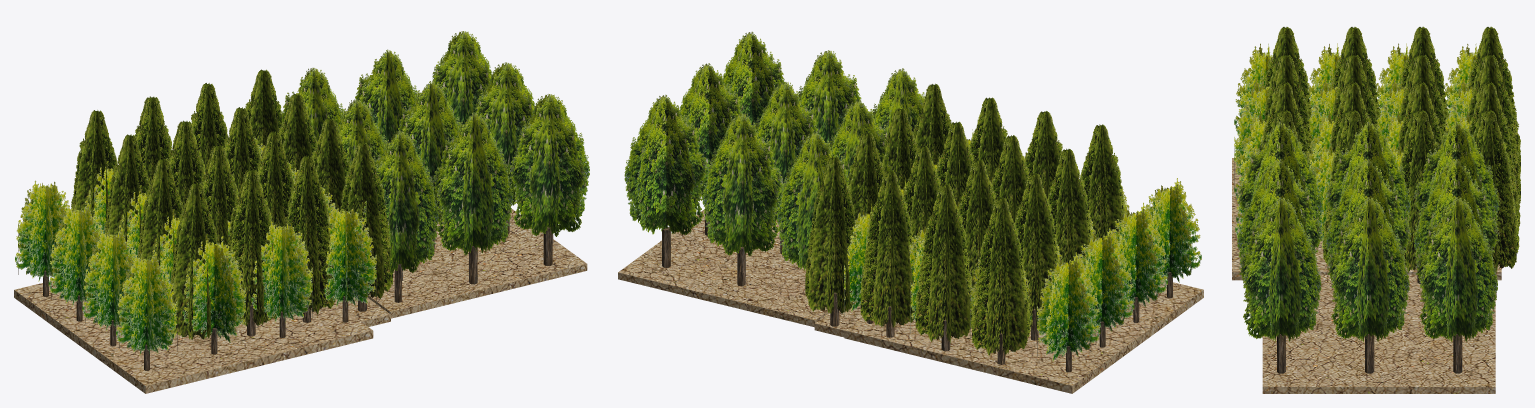
Rendered from Tree Pack.FBX.
3 views of the same model, side by side, from view 1: azimuth 30°, elevation 25°; view 2: azimuth 150°, elevation 25°; view 3: azimuth 270°, elevation 25° (orthographic). The views are drawn at different scales.
Visible parts, largest first — view 1: Object002, Object004, Object003; view 2: Object003, Object002, Object004; view 3: Object002, Object003, Object004.
Boxes of the visible parts, <box> form: Object002: <box>282,31,589,318</box>; Object004: <box>14,138,376,393</box>; Object003: <box>71,69,392,339</box>; Object003: <box>805,83,1125,364</box>; Object002: <box>618,31,925,327</box>; Object004: <box>844,129,1203,393</box>; Object002: <box>1237,121,1499,393</box>; Object003: <box>1262,26,1520,297</box>; Object004: <box>1232,43,1501,280</box>.
Bounding box in the file's own units: 48.26 × 17.63 × 24.97.
